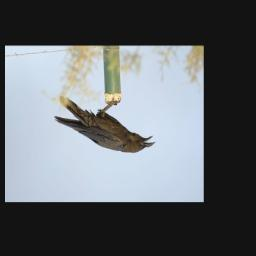Crow: (52, 96, 157, 156)
